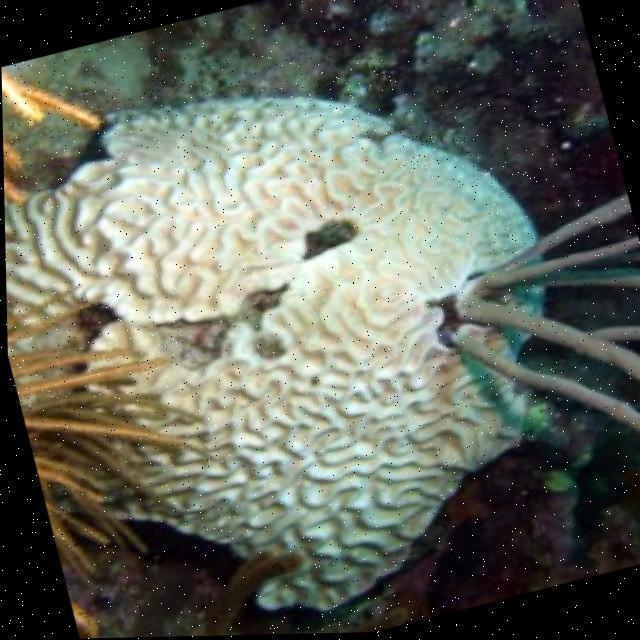Bleached Coral: (27, 96, 543, 583)
